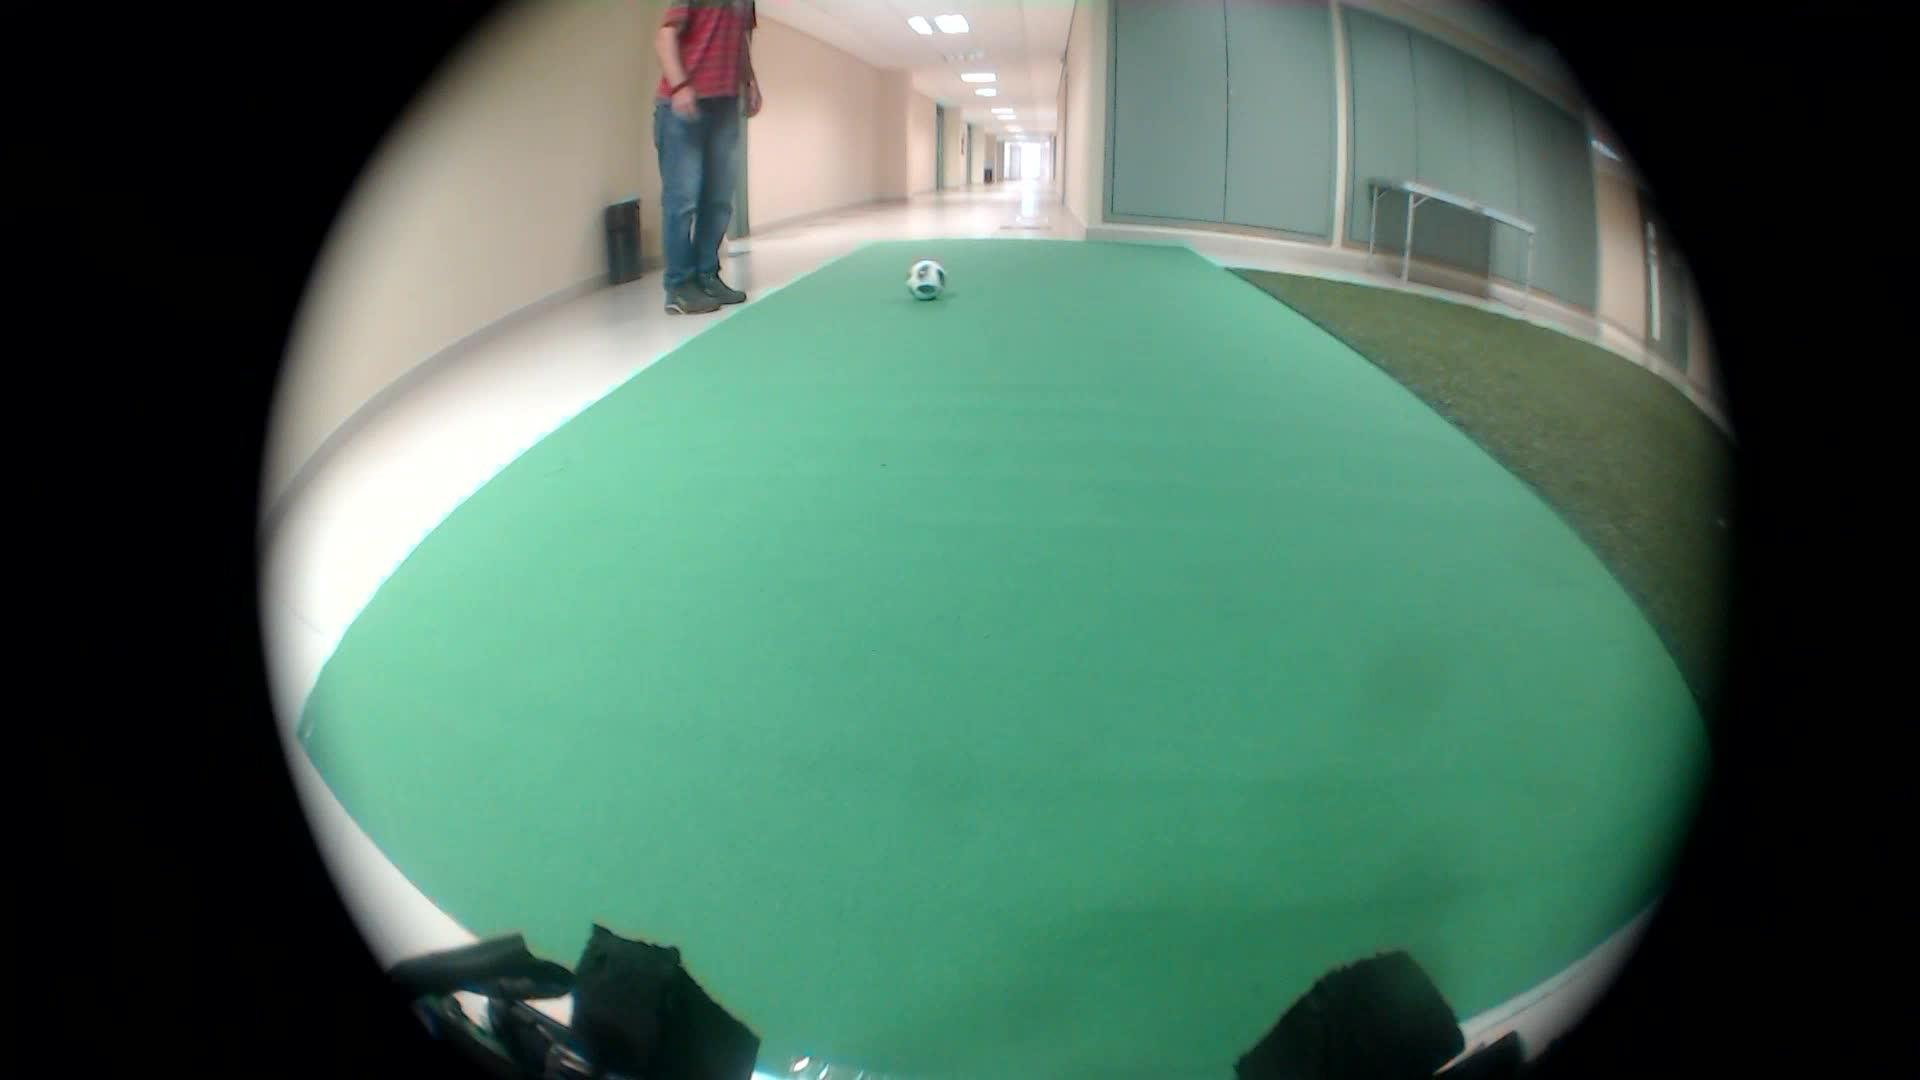ball: (899, 244, 953, 305)
